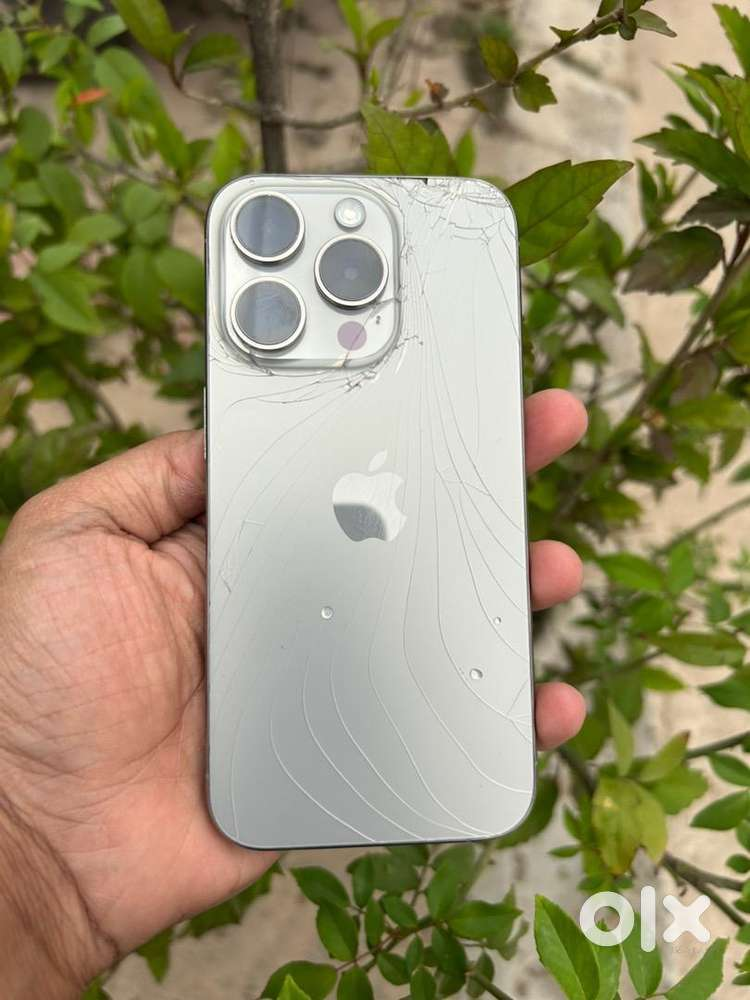broken_phone: (151, 150, 565, 880)
